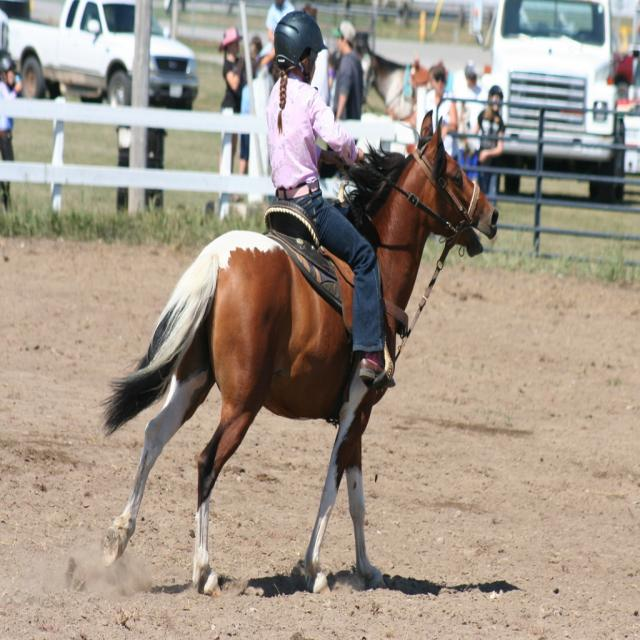Horse: (95, 109, 500, 596)
